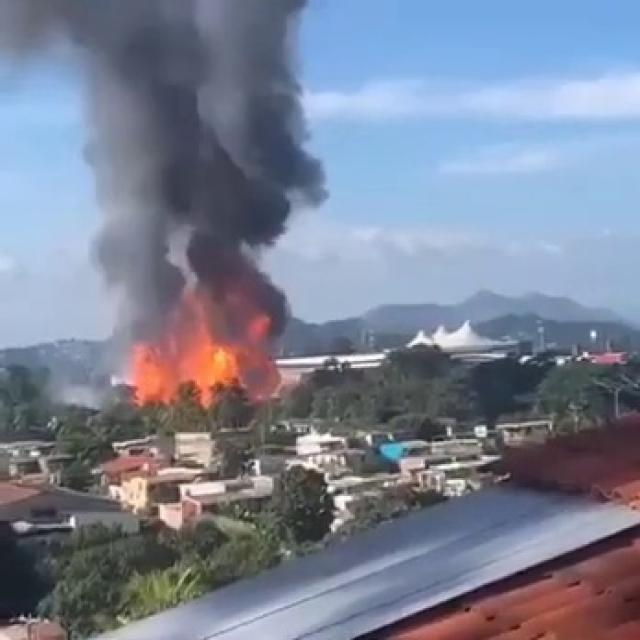Fire: (140, 340, 238, 412)
Smoke: (0, 0, 320, 352)
